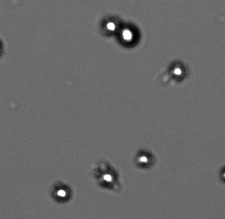Living Cell: (94, 163, 120, 189), (116, 20, 139, 48), (168, 55, 188, 83), (51, 181, 72, 203), (134, 149, 156, 168), (100, 11, 117, 35)
